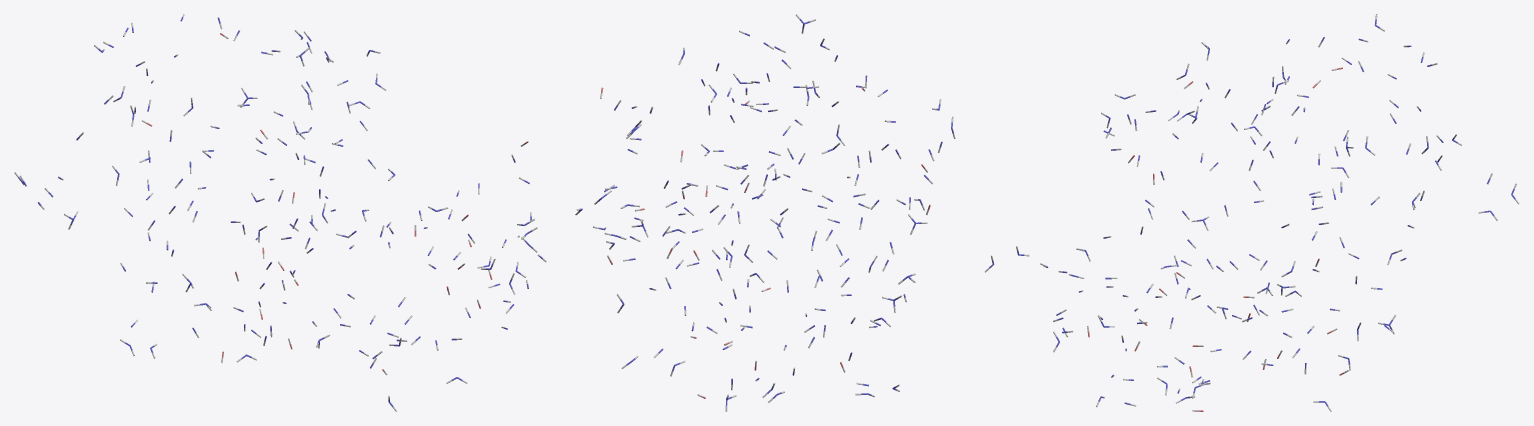
The model's file is 1lyz__lines__default__H.glb.
The picture shows the model from 3 angles, left to right: view 1: azimuth 30°, elevation 25°; view 2: azimuth 150°, elevation 25°; view 3: azimuth 270°, elevation 25°; orthographic projection. The views are drawn at different scales.
Visible parts, largest first — view 1: Renderer Node; view 2: Renderer Node; view 3: Renderer Node.
Part boxes in pixels (bbox=[...]): Renderer Node: bbox=[14, 14, 546, 411]; Renderer Node: bbox=[575, 14, 955, 411]; Renderer Node: bbox=[984, 14, 1519, 411].
Bounding box in the file's own units: 37.94 × 31.19 × 45.55.
